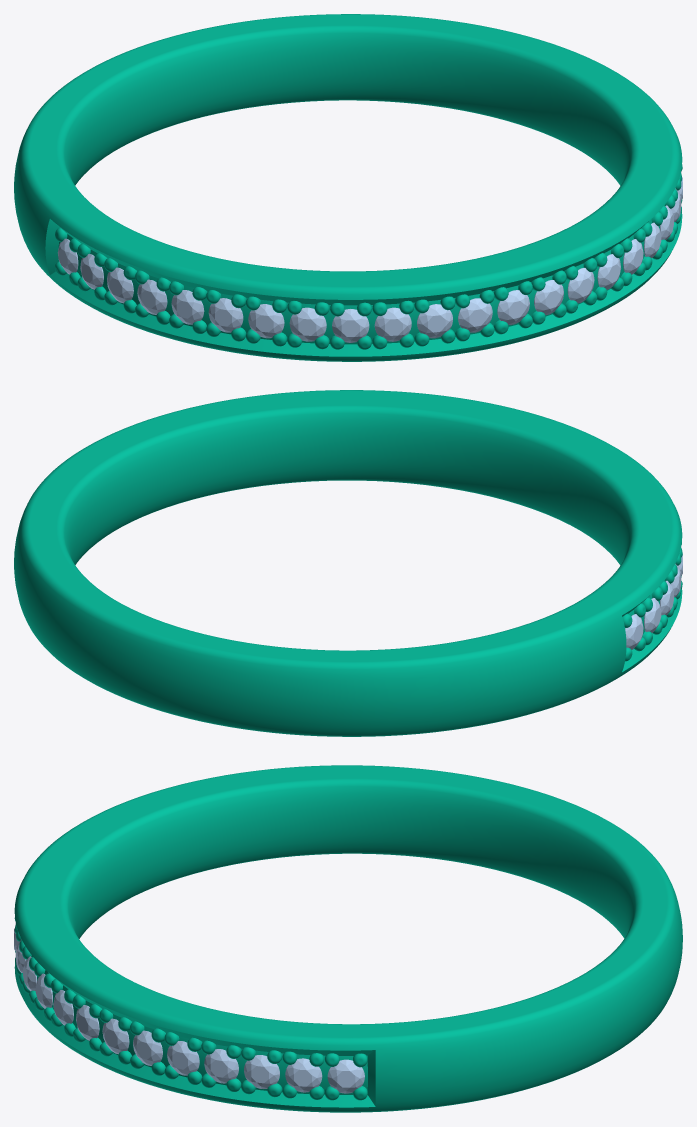
3 renders of one model, top to bottom at view 1: azimuth 30°, elevation 25°; view 2: azimuth 150°, elevation 25°; view 3: azimuth 270°, elevation 25°, orthographic.
Visible parts, largest first — view 1: VR-114(base).3dm, Diamond_Round (×15); view 2: VR-114(base).3dm; view 3: VR-114(base).3dm, Diamond_Round (×8).
Boxes of the visible parts, x1=… form: VR-114(base).3dm: x1=14, y1=14, x2=682, y2=361; Diamond_Round (×15): x1=80, y1=254, x2=620, y2=342; VR-114(base).3dm: x1=14, y1=390, x2=682, y2=736; VR-114(base).3dm: x1=14, y1=765, x2=682, y2=1112; Diamond_Round (×8): x1=76, y1=1005, x2=364, y2=1093.
Bounding box in the file's own units: 2.82 × 0.3474 × 2.81.
